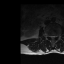CCS_stenosis: (51, 33, 53, 41)
LFS_stenosis: (55, 33, 57, 39)
LLS_normal: (53, 33, 55, 40)
RFS_stenosis: (47, 32, 49, 39)
RLS_normal: (49, 33, 52, 40)
